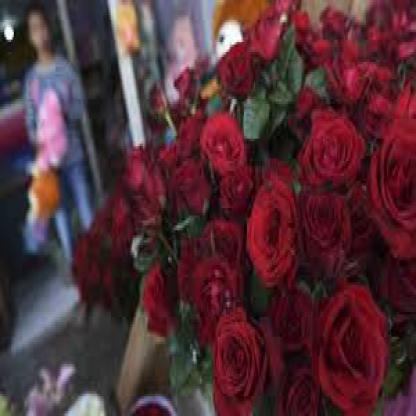Rose-Mawar: (127, 66, 416, 301), (213, 283, 416, 407), (229, 4, 416, 76)
